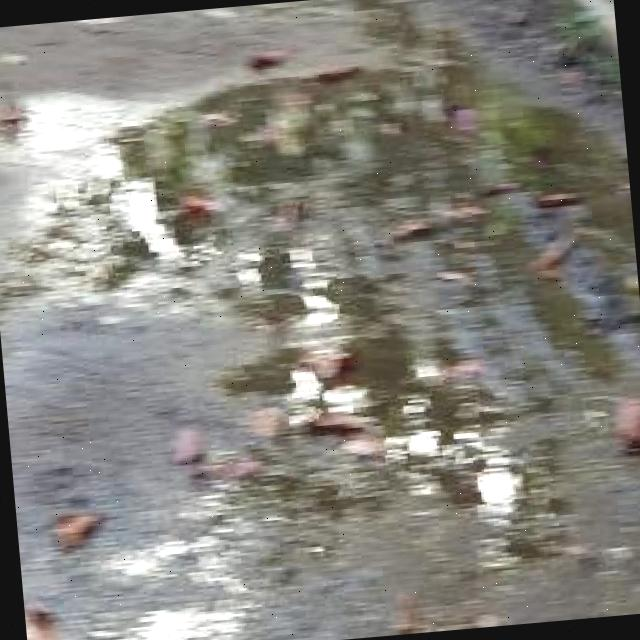stagnation: (102, 15, 640, 626)
